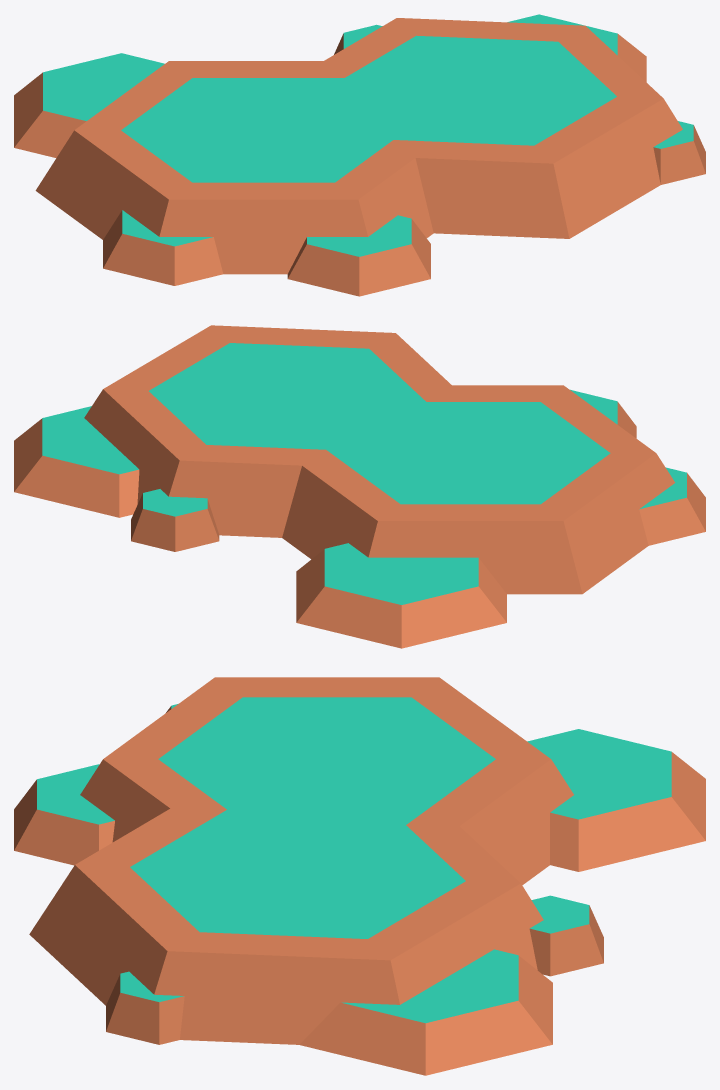
File: platform_grass.dae
The picture shows the model from 3 angles, top to bottom: view 1: azimuth 30°, elevation 25°; view 2: azimuth 150°, elevation 25°; view 3: azimuth 270°, elevation 25°; orthographic projection. The views are drawn at different scales.
Visible parts, largest first — view 1: platform_grass; view 2: platform_grass; view 3: platform_grass.
Boxes of the visible parts, x1,y1,x2,y2 form: platform_grass: [14, 14, 705, 296]; platform_grass: [14, 325, 705, 648]; platform_grass: [14, 677, 705, 1075].
Size of the model in its own units: 0.8932 by 0.0825 by 0.7239.
